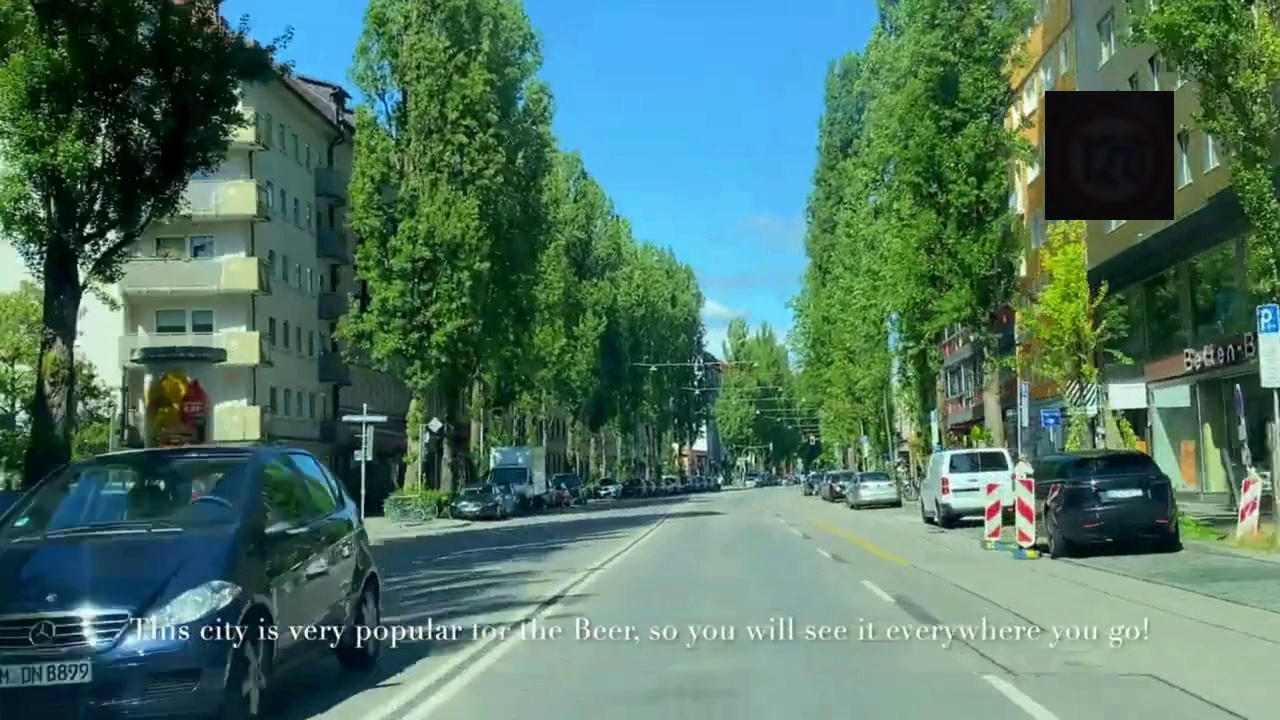Speed 120: (1045, 91, 1174, 220)
